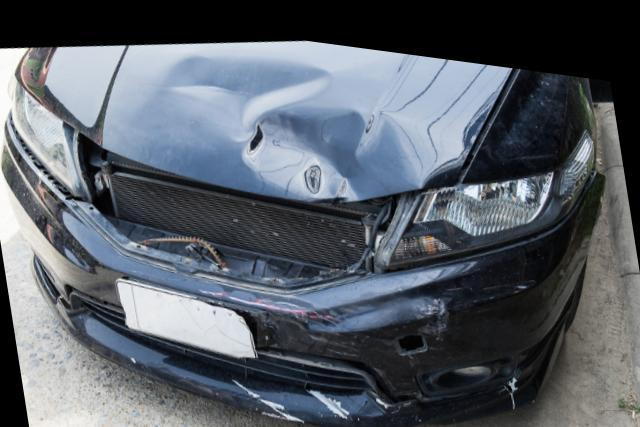dent: (159, 45, 419, 189)
scratch: (197, 282, 366, 348), (230, 371, 309, 415), (308, 378, 355, 411)
